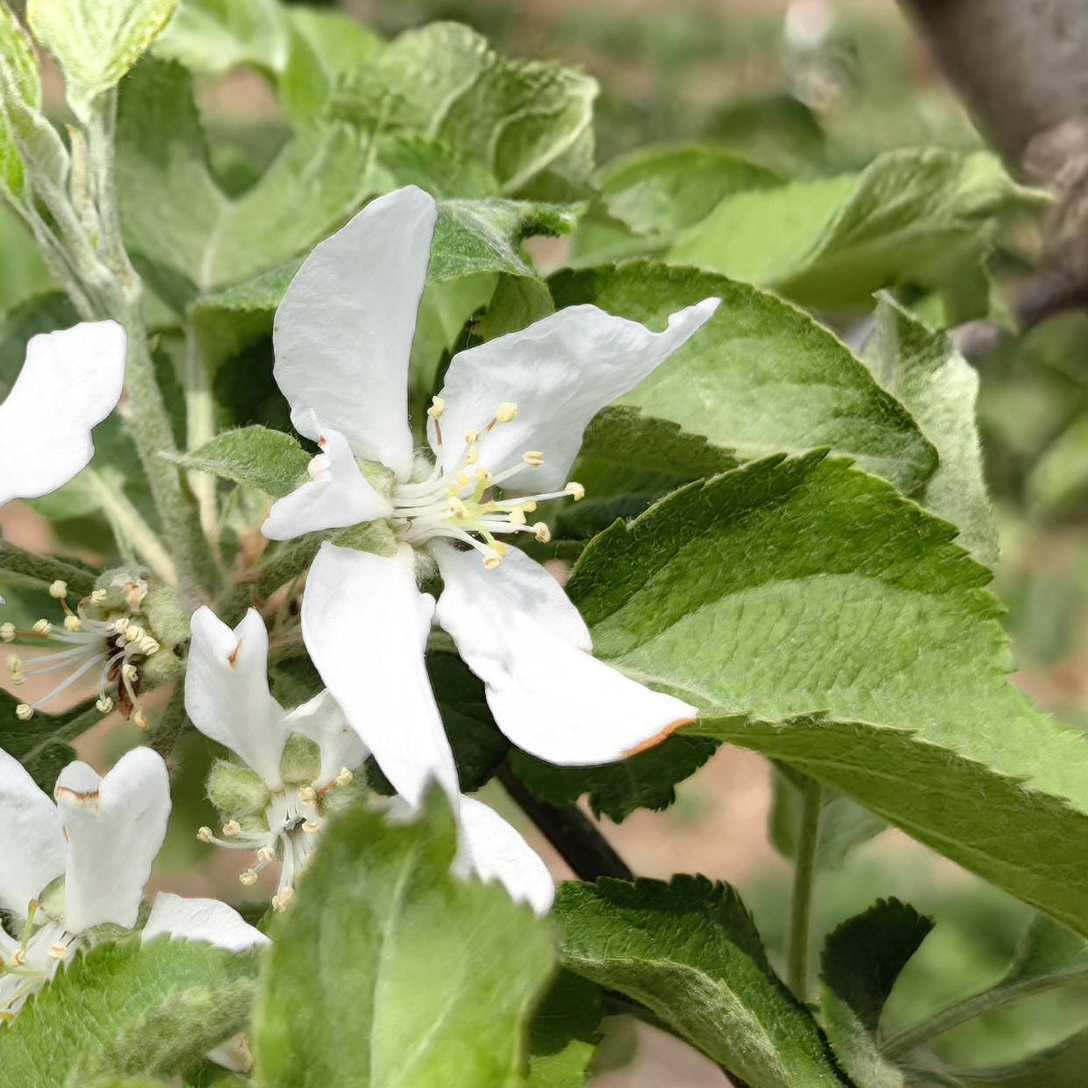apple_flower: (264, 185, 716, 903), (0, 747, 261, 1028), (183, 605, 371, 905), (5, 567, 189, 712), (0, 319, 125, 505), (459, 801, 555, 910)
